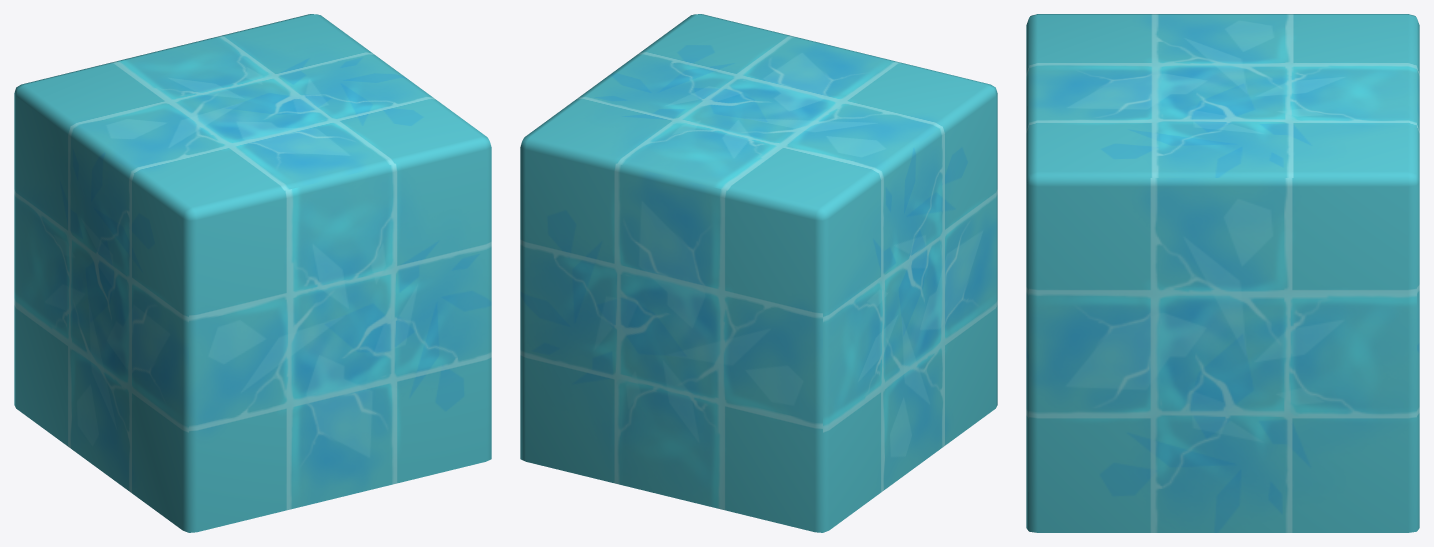
File: Ice Cube-1.fbx
3 views of the same model, side by side, from view 1: azimuth 30°, elevation 25°; view 2: azimuth 150°, elevation 25°; view 3: azimuth 270°, elevation 25° (orthographic). The views are drawn at different scales.
Visible parts, largest first — view 1: Box018; view 2: Box018; view 3: Box018.
Boxes of the visible parts, x1,y1,x2,y2 form: Box018: (14,14,491,532); Box018: (520,14,997,532); Box018: (1026,14,1419,532).
Bounding box in the file's own units: 300 × 300 × 300.
